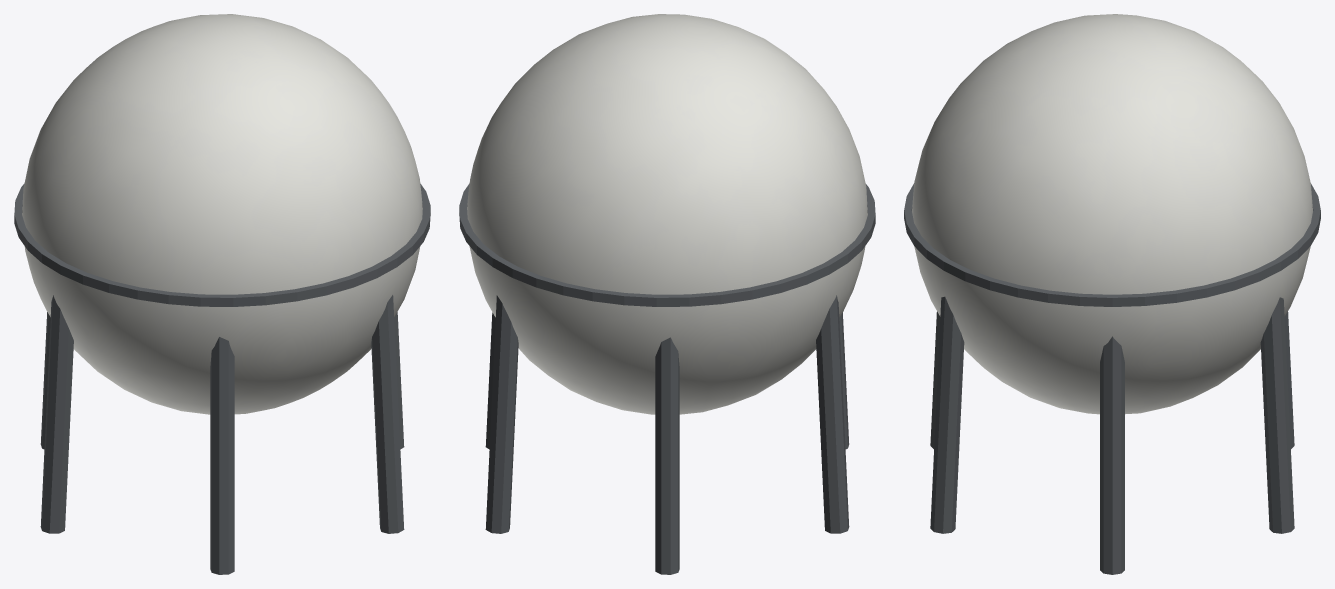
File: pv_nadrz_koule.glb
3 views of the same model, side by side, from view 1: azimuth 30°, elevation 25°; view 2: azimuth 150°, elevation 25°; view 3: azimuth 270°, elevation 25° (orthographic).
Visible parts, largest first — view 1: dum; view 2: dum; view 3: dum.
Boxes of the visible parts, <box> form: dum: <box>14,14,430,574</box>; dum: <box>459,14,875,574</box>; dum: <box>904,14,1320,574</box>.
Bounding box in the file's own units: 8.28 × 9.99 × 8.28.
Materials: 1 (1 with a texture image).
